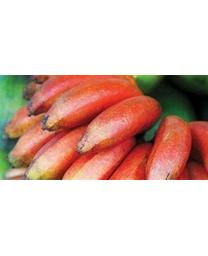banana: (7, 76, 207, 180)
